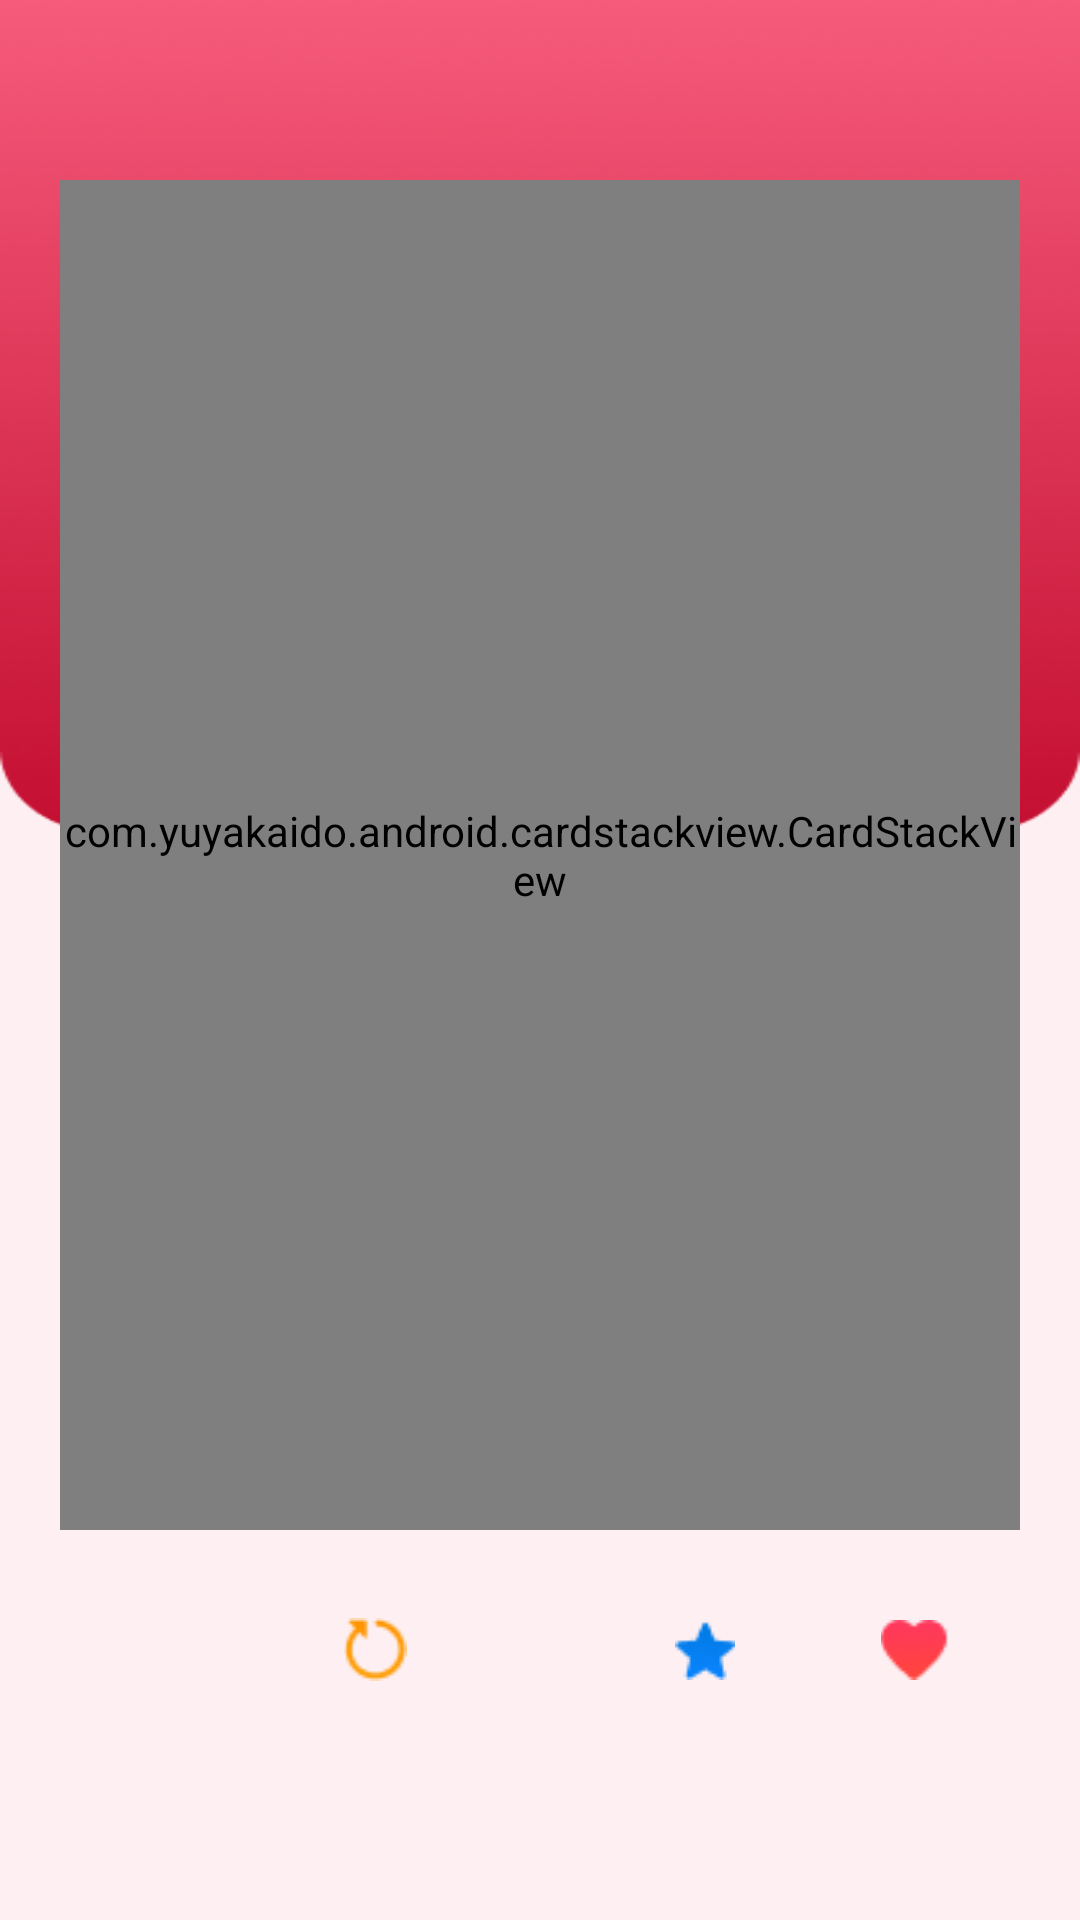

Screen size 1080px×1920px. Icon name, then its box in pixels as (x1,y1,x2,y2):
fav: (881,1620,948,1680)
retry: (344,1618,407,1681)
star: (675,1622,735,1680)
